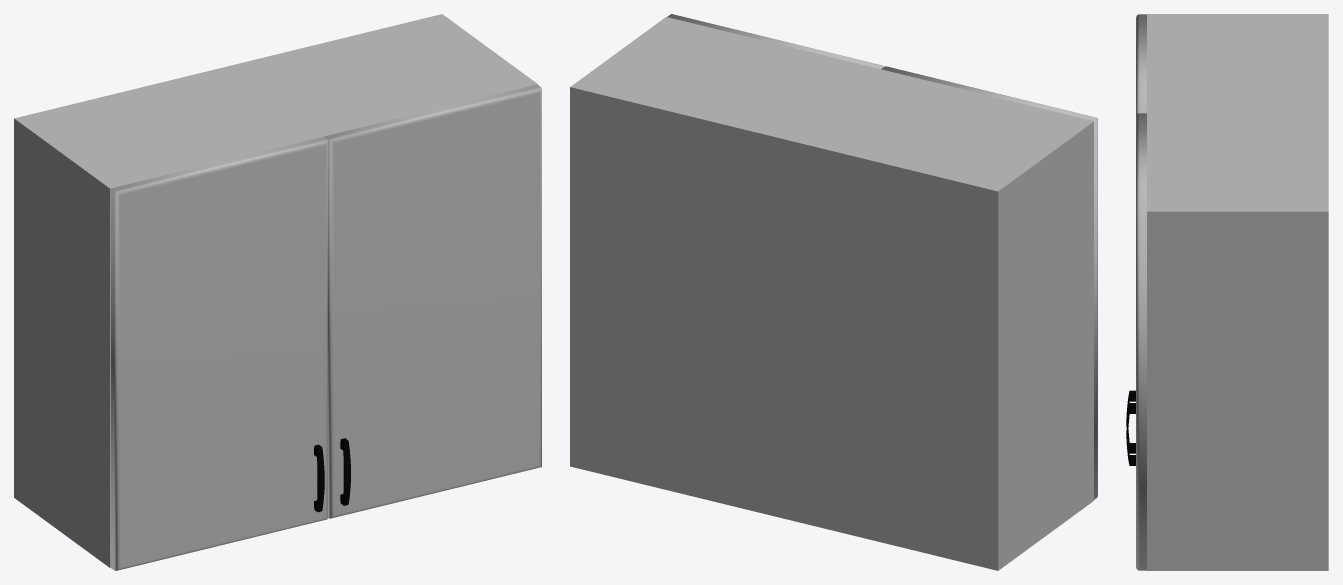
3 renders of one model, left to right at view 1: azimuth 30°, elevation 25°; view 2: azimuth 150°, elevation 25°; view 3: azimuth 270°, elevation 25°, orthographic. The views are drawn at different scales.
Parts seen in each view (by area): view 1: Box011, Box012, Box001; view 2: Box001, Box011, Box012; view 3: Box001, Box012, Box011, Obj3d66-503491-2-345.
Boxes of the visible parts, box(x1,y1,x2,y2) form: Box011: box(111, 136, 327, 570); Box012: box(325, 84, 541, 518); Box001: box(14, 14, 537, 567); Box001: box(570, 17, 1093, 570); Box011: box(881, 66, 1097, 499); Box012: box(667, 14, 883, 69); Box001: box(1147, 14, 1328, 570); Box012: box(1136, 113, 1146, 570); Box011: box(1136, 14, 1146, 115); Obj3d66-503491-2-345: box(1126, 403, 1135, 465).
Bounding box in the file's own units: 0.85 × 0.72 × 0.3671.
2 materials, 1 textured.
